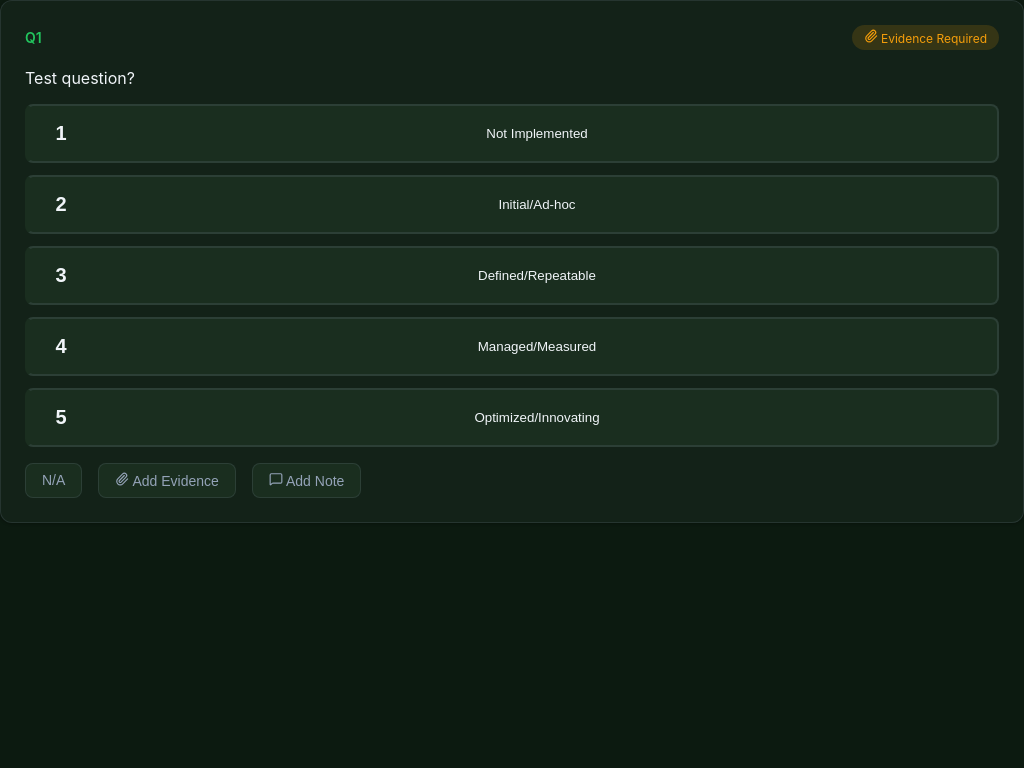
Test case: QuestionCard › Comments / Notes › should hide textarea when toggle button is clicked again
Click the button with test id "comment-toggle-q1". click: (307, 480)
box: left=252, top=463, right=361, bottom=498
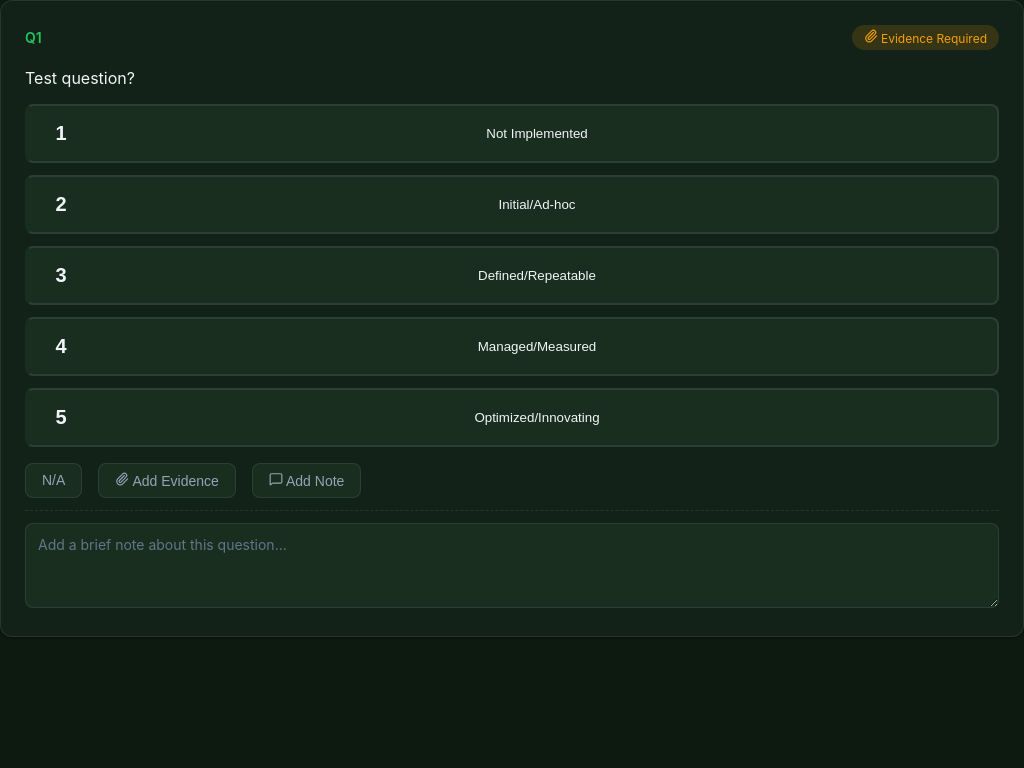
Click the button with test id "comment-toggle-q1". click: (307, 480)
box: left=252, top=463, right=361, bottom=498
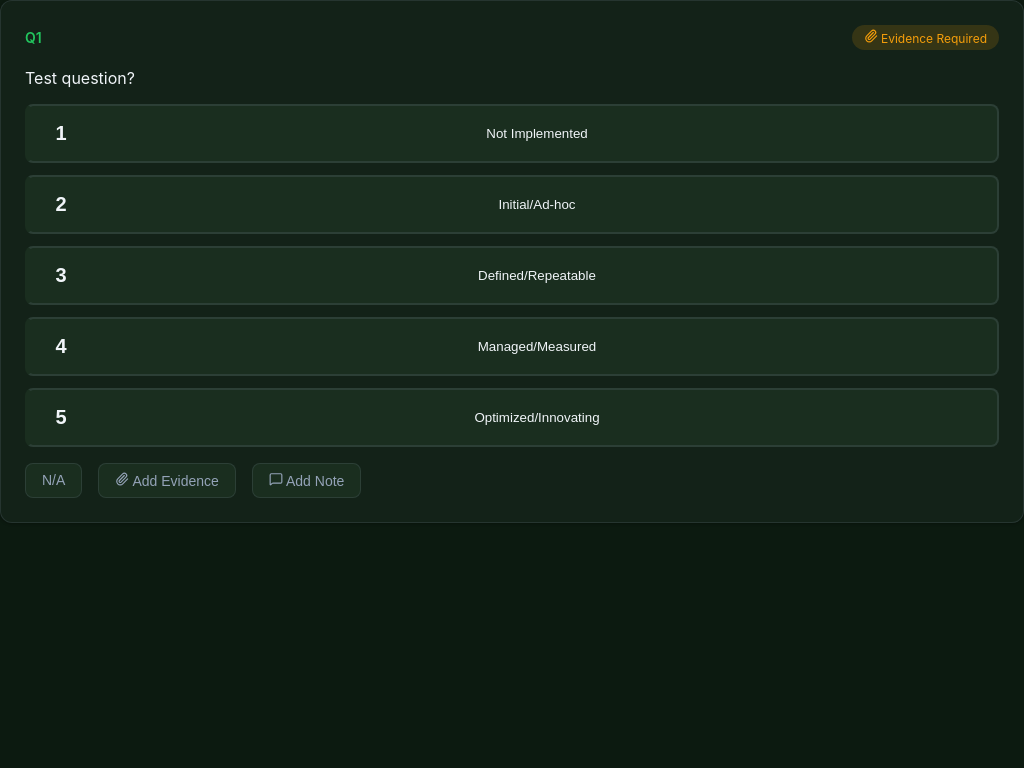
Expected: the element with test id "comment-area-q1" is gone
